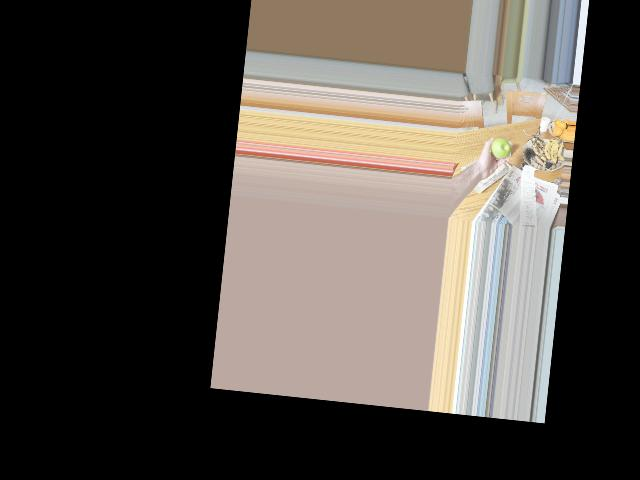apple: (489, 136, 511, 161)
